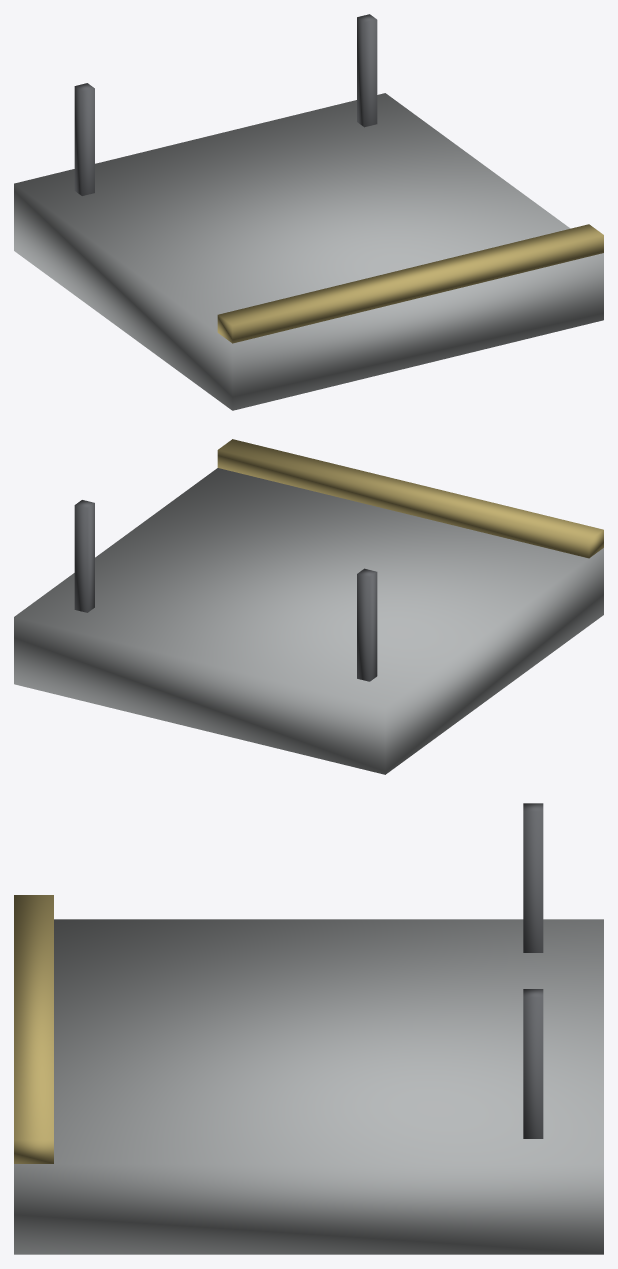
Rendered from loading_dock_04.glb.
3 views of the same model, one above another, from view 1: azimuth 30°, elevation 25°; view 2: azimuth 150°, elevation 25°; view 3: azimuth 270°, elevation 25° (orthographic). The views are drawn at different scales.
Parts seen in each view (by area): view 1: world; view 2: world; view 3: world.
Part boxes in pixels (left/top/right/bottom): world: left=14, top=14, right=603, bottom=410; world: left=14, top=439, right=603, bottom=774; world: left=14, top=803, right=603, bottom=1254.
Size of the model in its own units: 2.6 by 1.15 by 2.65.
